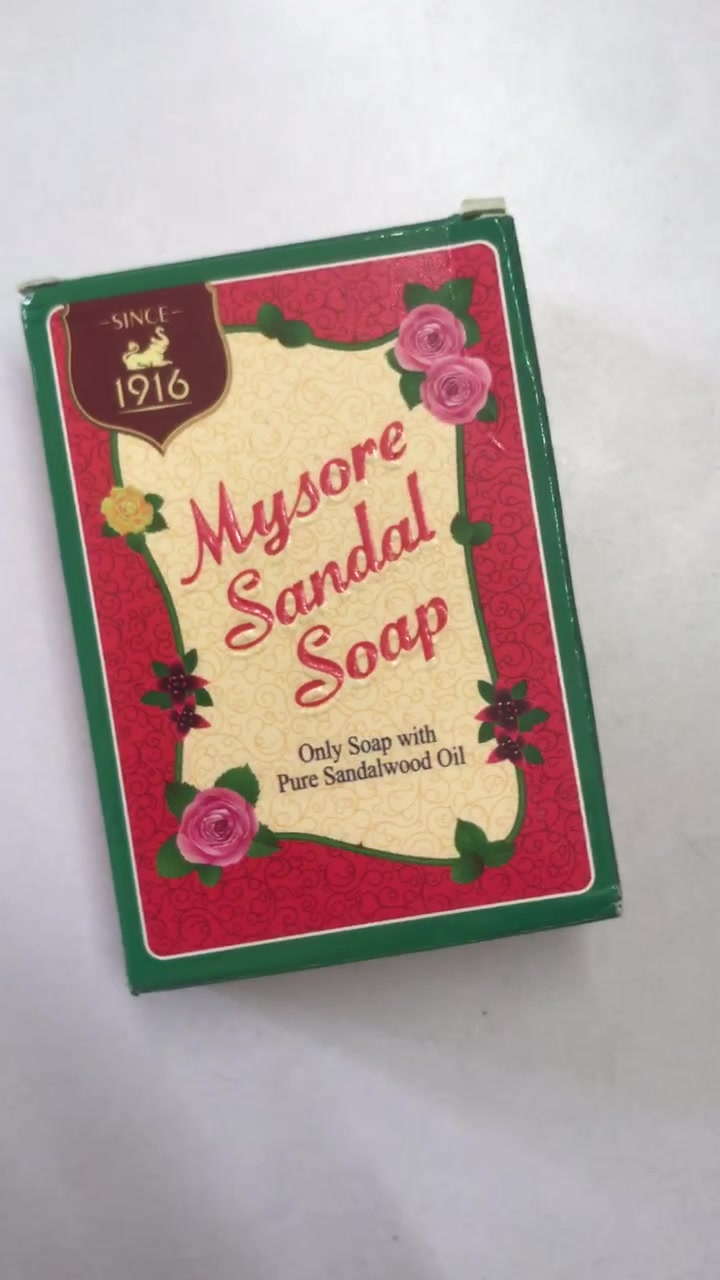mysore sandal soap: (33, 218, 626, 996)
